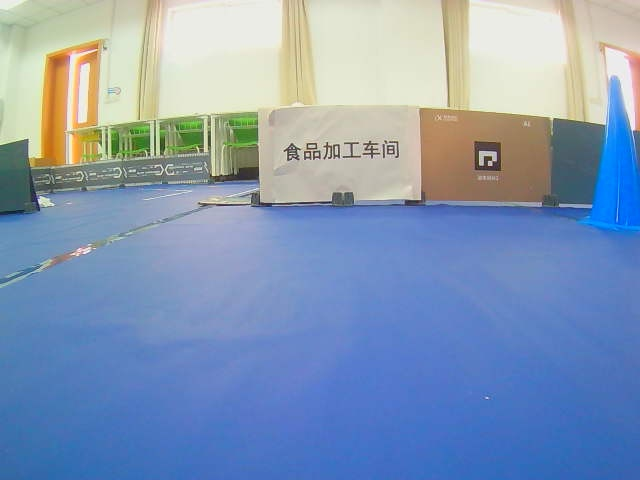target: (281, 139, 400, 161)
